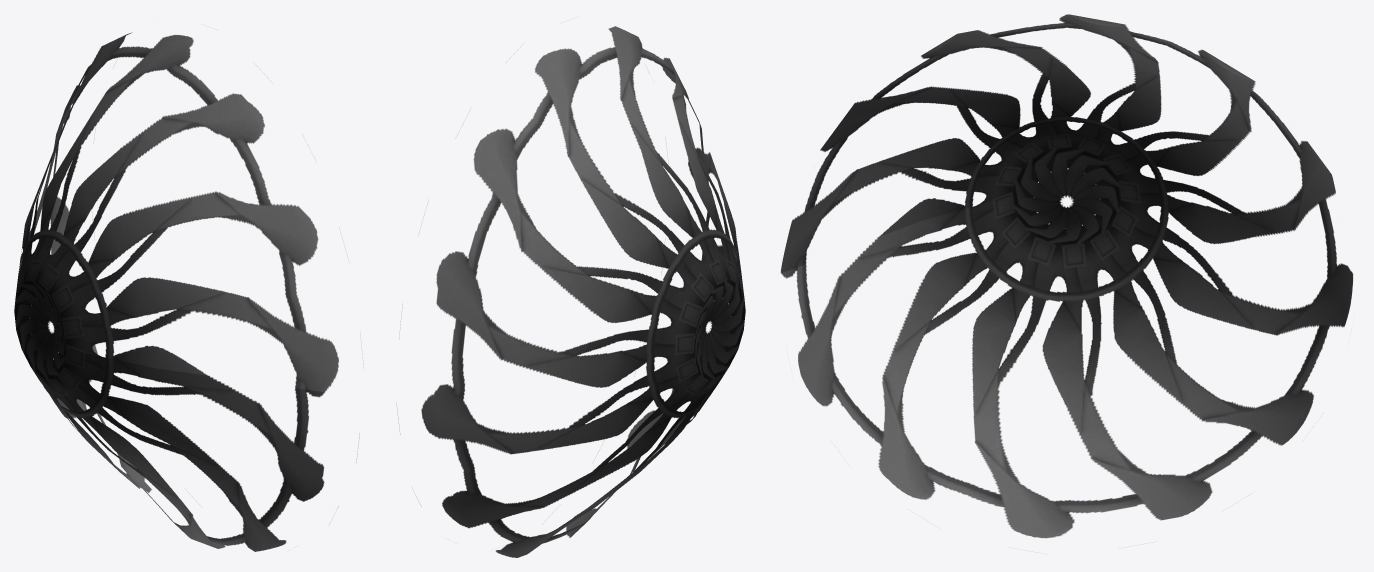
File: Aegis-blade2.glb
The picture shows the model from 3 angles, left to right: view 1: azimuth 30°, elevation 25°; view 2: azimuth 150°, elevation 25°; view 3: azimuth 270°, elevation 25°; orthographic projection. The views are drawn at different scales.
Visible parts, largest first — view 1: Aegis_Blade_top_0.002; view 2: Aegis_Blade_top_0.002; view 3: Aegis_Blade_top_0.002.
Boxes of the visible parts, x1,y1,x2,y2 form: Aegis_Blade_top_0.002: [14, 32, 363, 551]; Aegis_Blade_top_0.002: [397, 26, 745, 557]; Aegis_Blade_top_0.002: [781, 14, 1353, 538].
Bounding box in the file's own units: 0.8464 × 2.16 × 2.16.
Materials: 1 (1 with a texture image).
